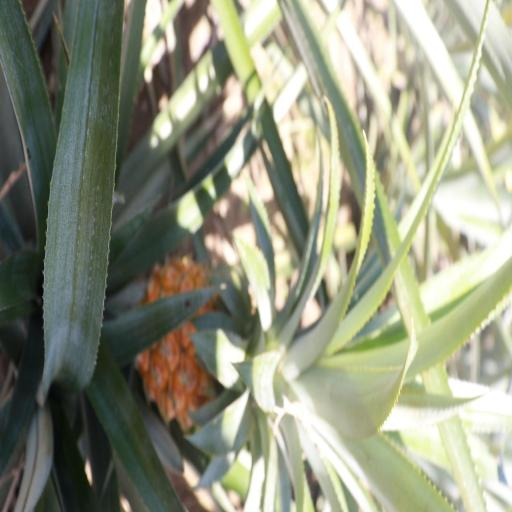Pineapple - v8 v1: (146, 259, 416, 432)
